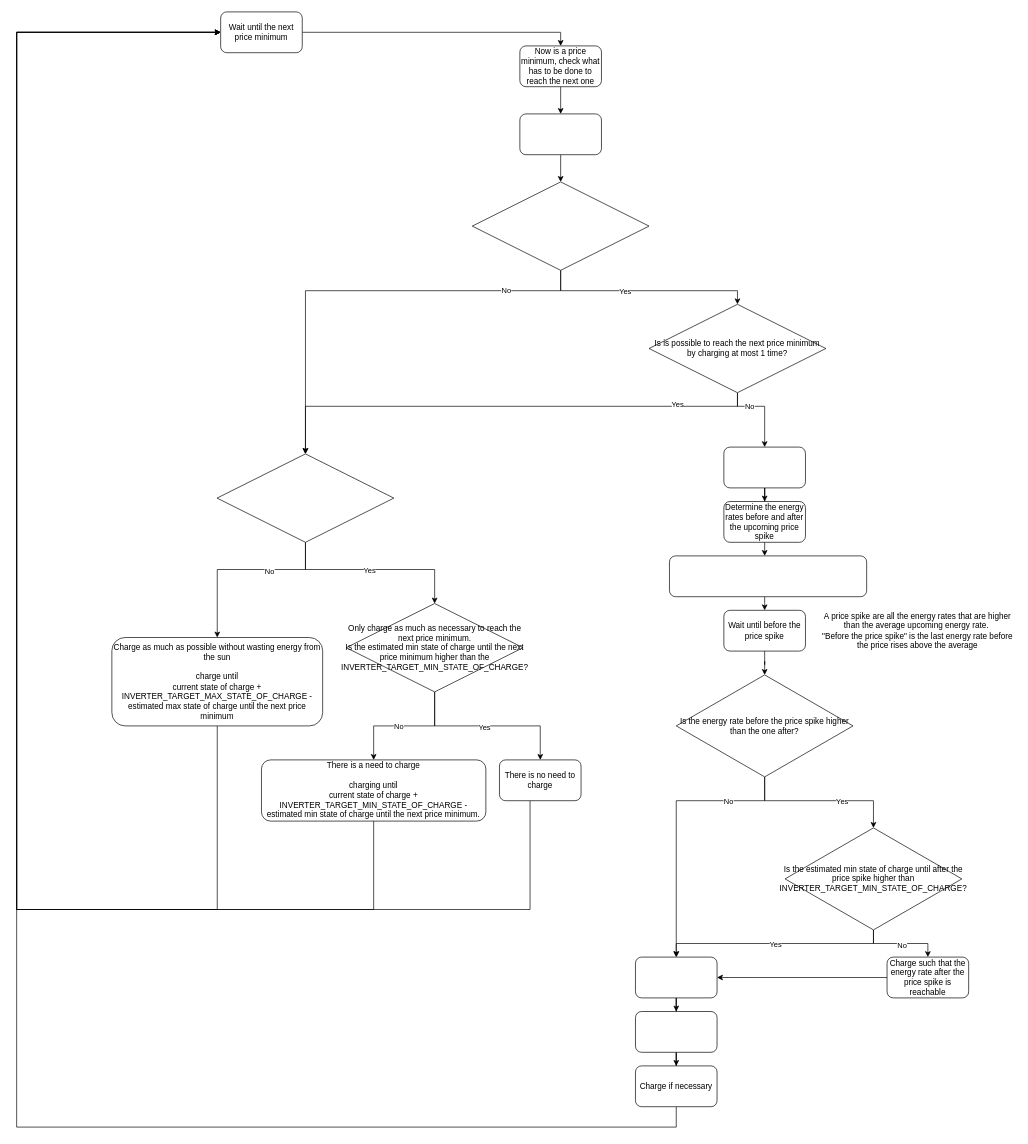
Some shapes in this 1028 by 1144 pixel diagram are drawn without their labels. Each missing label, with the centre of its shape:
Calculate the estimated min and max soc until the next price minimum: [560,134]
Calculate the necessary charge to reach the next price minimum: [676,1031]
Charge until INVERTER_TARGET_MAX_STATE_OF_CHARGE: [768,576]
Is the current energy hate higher than the one of the next price minimum?: [305,497]
Is the estimated min soc lower than INVERTER_TARGET_MIN_STATE_OF_CHARGE?: [560,225]
It is necessary to charge multiple times: [764,467]
Wait until after the price spike: [676,977]
